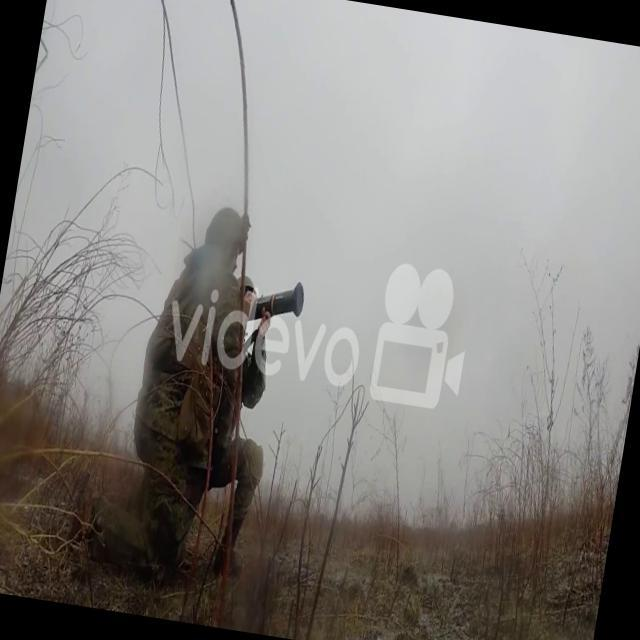rocket: (246, 276, 306, 342)
